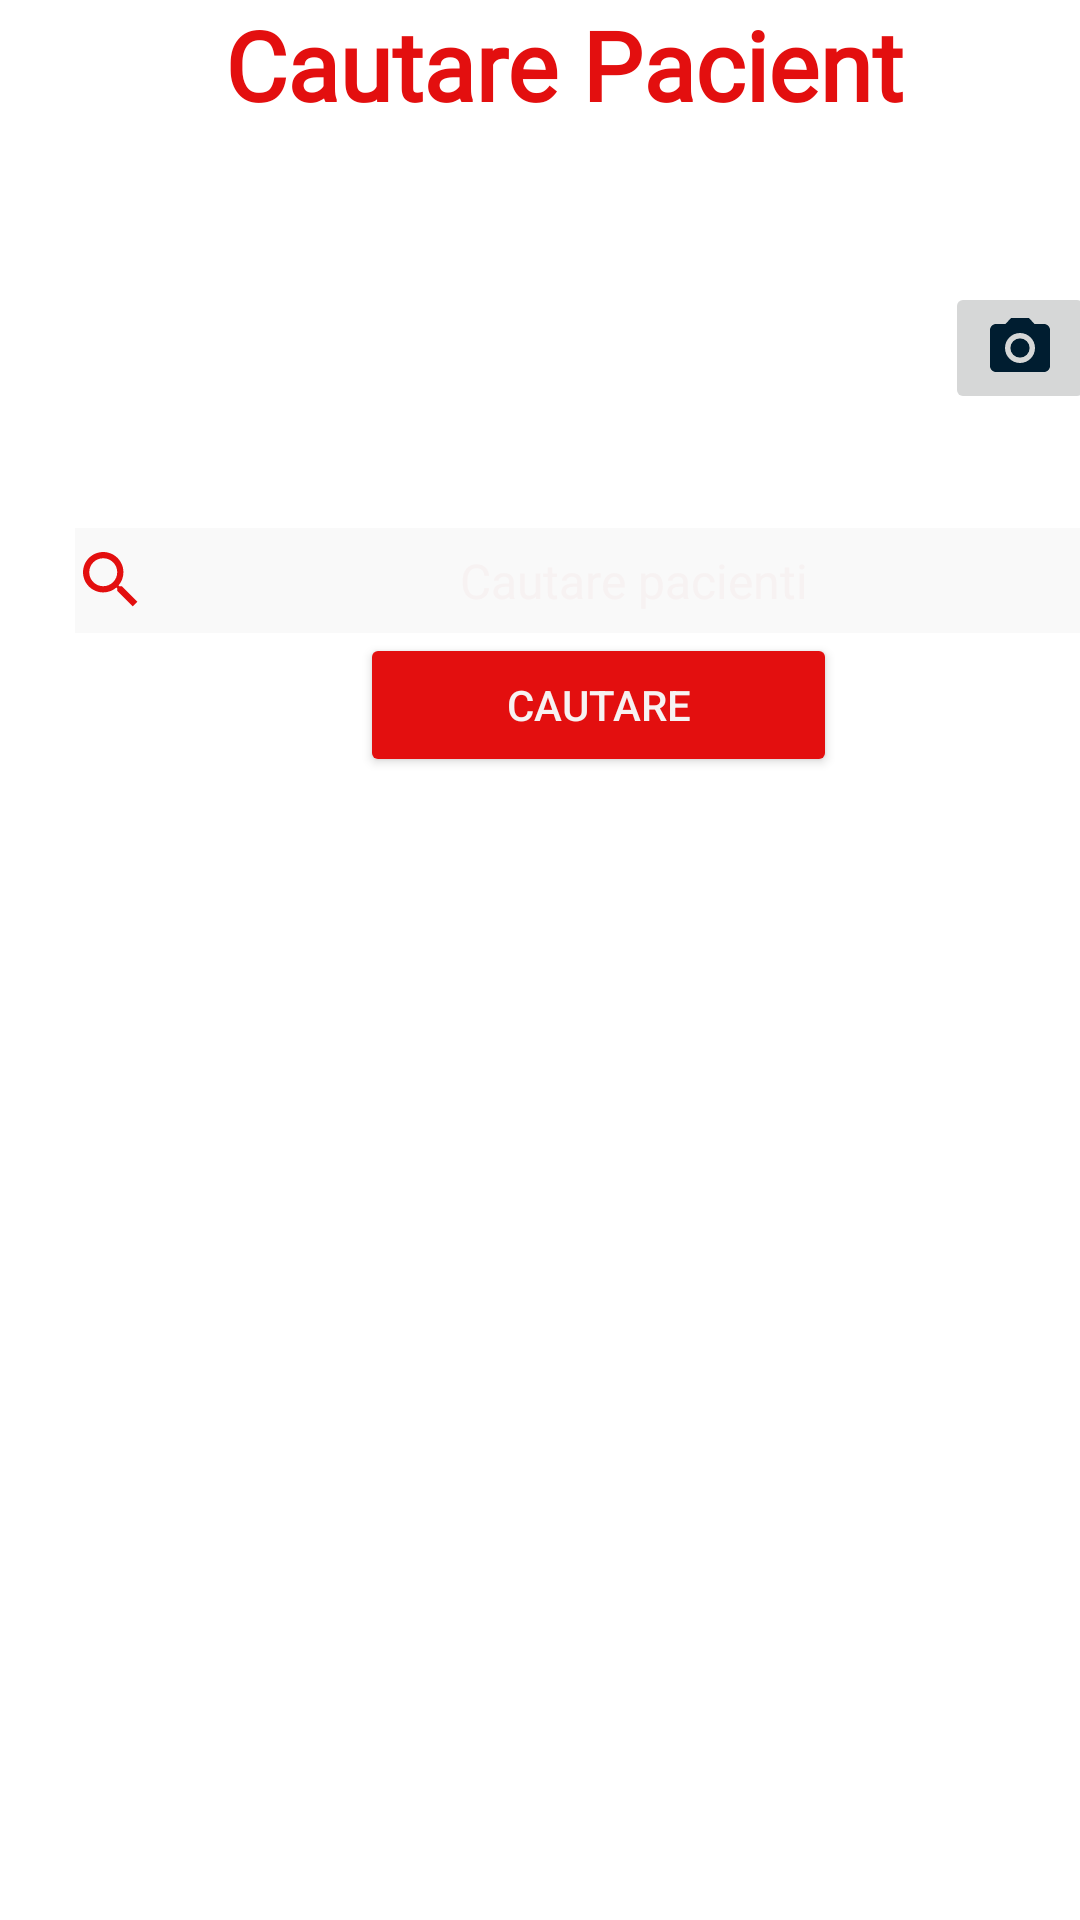

Icons on this 1080x1920 Android screen, each with the point to tap as point (x, y):
photo camera: point (1018, 348)
